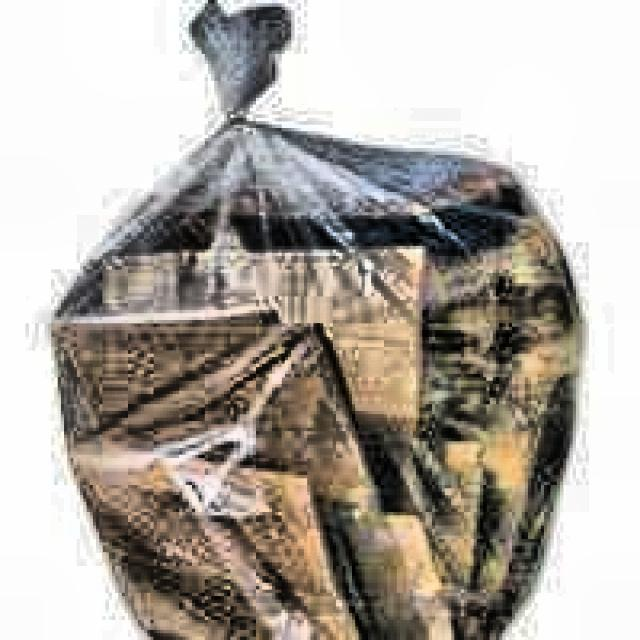Plastic: (51, 2, 586, 640)
